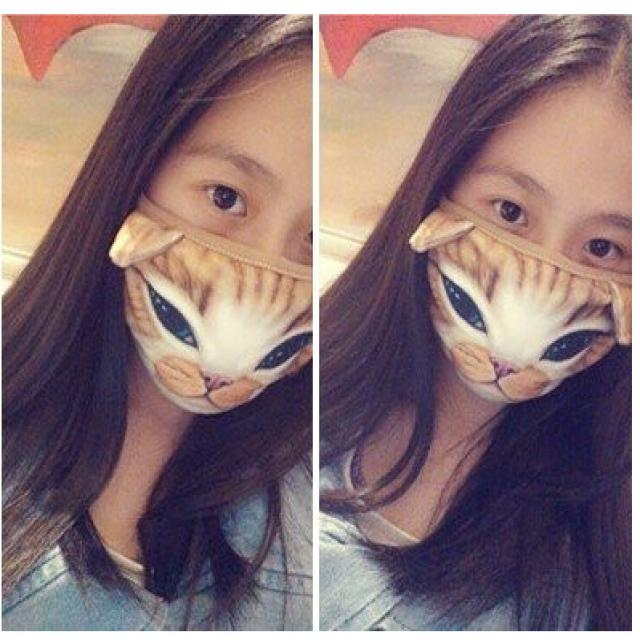mask: (113, 72, 360, 416), (430, 87, 638, 400)
